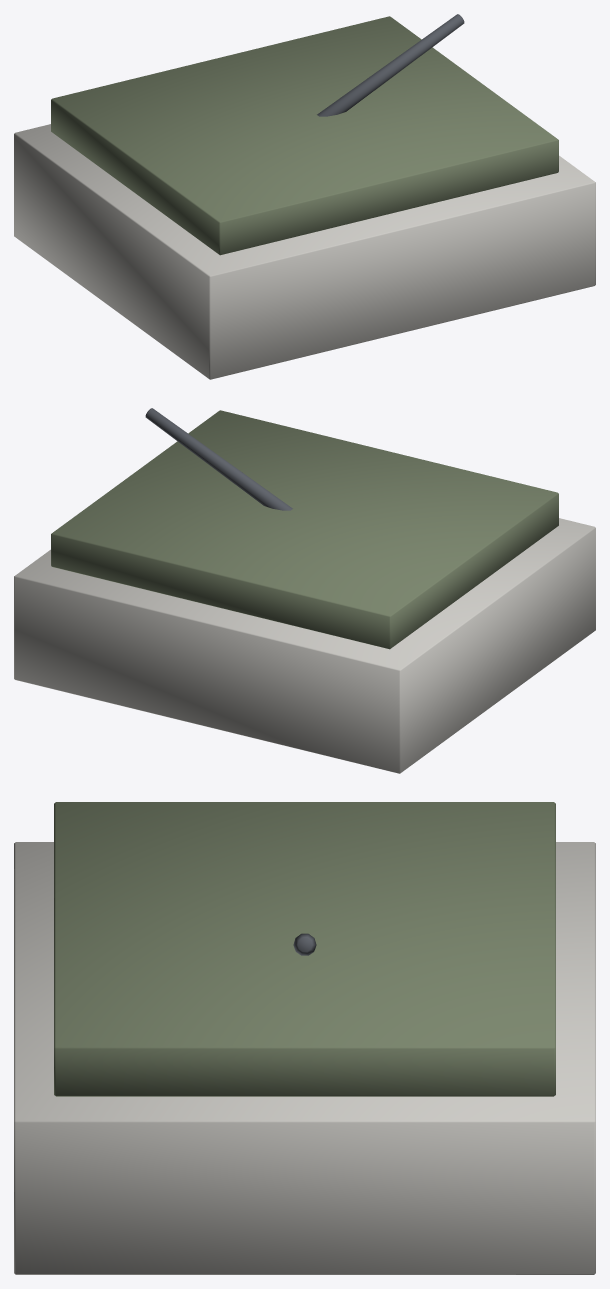
The model's file is SM_Cobra_Bunker.fbx.
The picture shows the model from 3 angles, top to bottom: view 1: azimuth 30°, elevation 25°; view 2: azimuth 150°, elevation 25°; view 3: azimuth 270°, elevation 25°; orthographic projection. The views are drawn at different scales.
Visible parts, largest first — view 1: SM_Cobra_Bunker; view 2: SM_Cobra_Bunker; view 3: SM_Cobra_Bunker.
Boxes of the visible parts, x1,y1,x2,y2 form: SM_Cobra_Bunker: (14, 14, 595, 379); SM_Cobra_Bunker: (14, 408, 595, 773); SM_Cobra_Bunker: (14, 802, 595, 1274).
Size of the model in its own units: 6.6 by 5.8 by 3.41.
